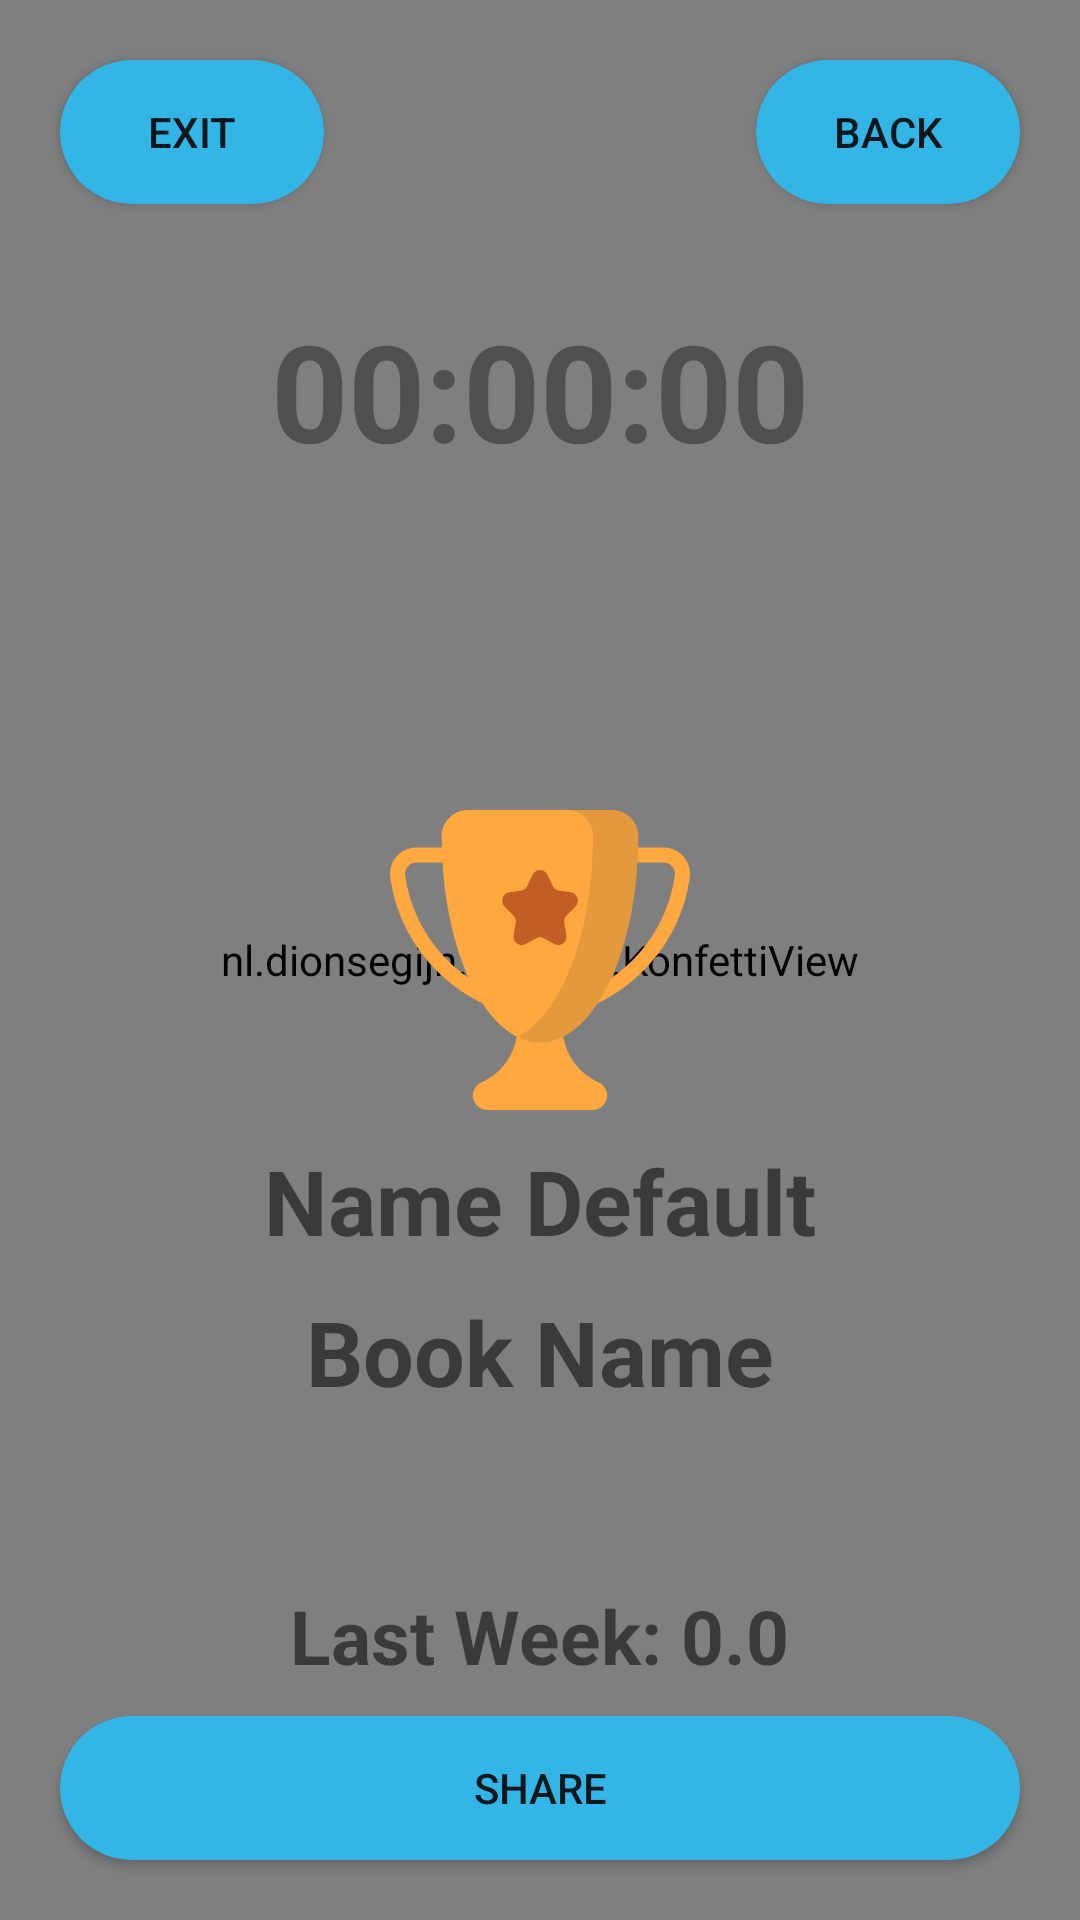

Point at icon controls on the screen. Image size 1080x1920, points as (x=x, y=y).
trophy: (x=540, y=960)
